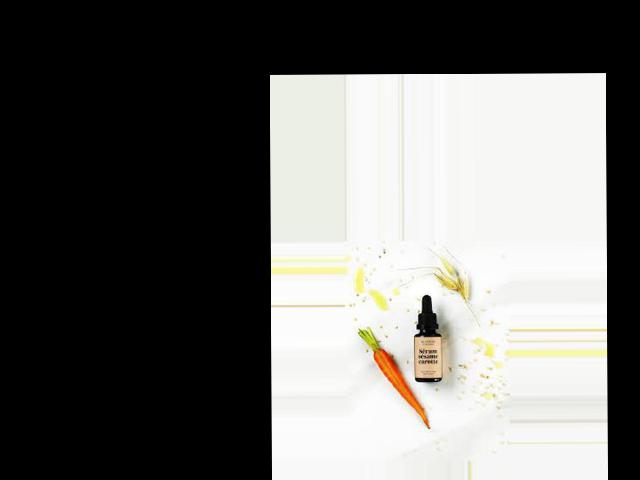carrot: (370, 347, 436, 433)
